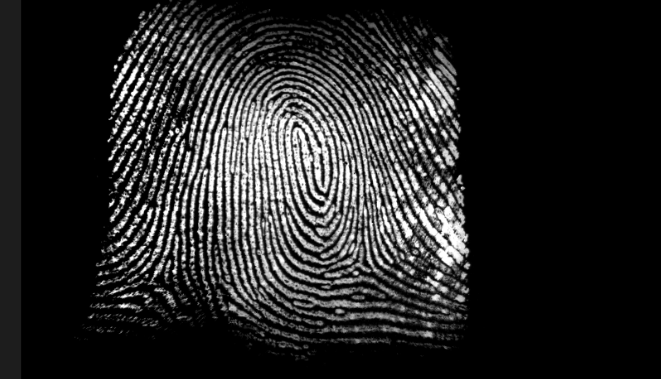nucelo: (283, 121, 322, 197)
verticilo: (129, 265, 170, 298), (339, 245, 379, 274)
